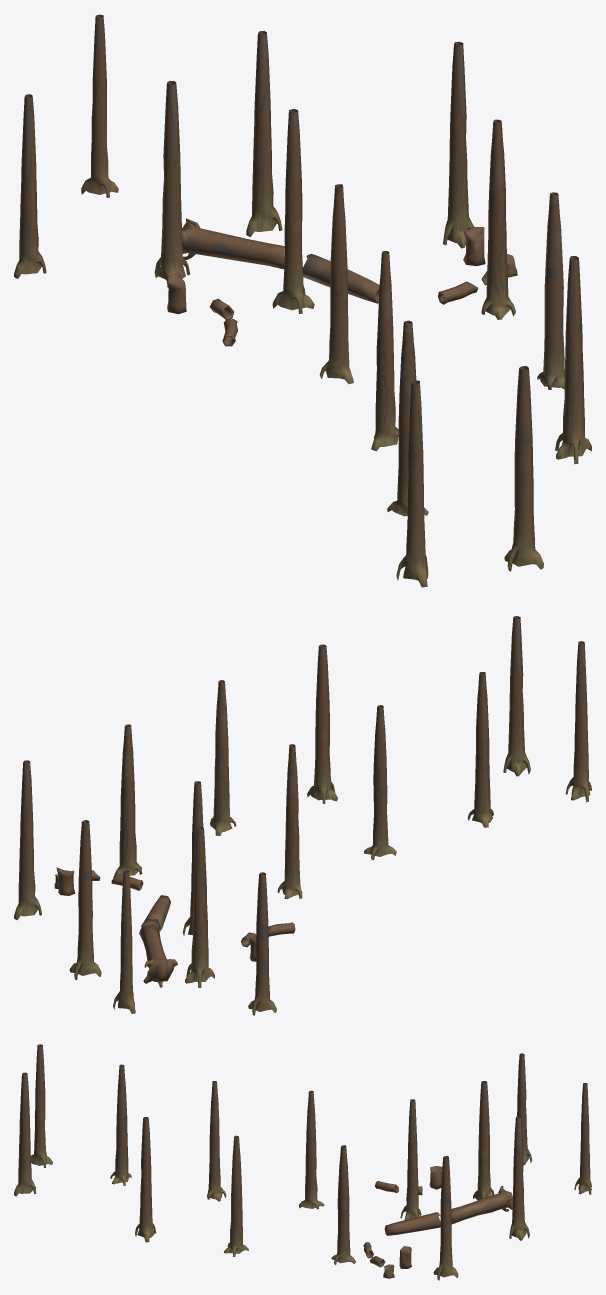
The model's file is Colider_arboles_pantano01.fbx.
The picture shows the model from 3 angles, top to bottom: view 1: azimuth 30°, elevation 25°; view 2: azimuth 150°, elevation 25°; view 3: azimuth 270°, elevation 25°; orthographic projection. The views are drawn at different scales.
Parts seen in each view (by area): view 1: Colider_arboles_pantano01; view 2: Colider_arboles_pantano01; view 3: Colider_arboles_pantano01.
Boxes of the visible parts, bbox=[...] form: Colider_arboles_pantano01: bbox=[14, 14, 591, 587]; Colider_arboles_pantano01: bbox=[14, 616, 591, 1015]; Colider_arboles_pantano01: bbox=[14, 1044, 591, 1280].
Bounding box in the file's own units: 95.98 × 45.51 × 196.
